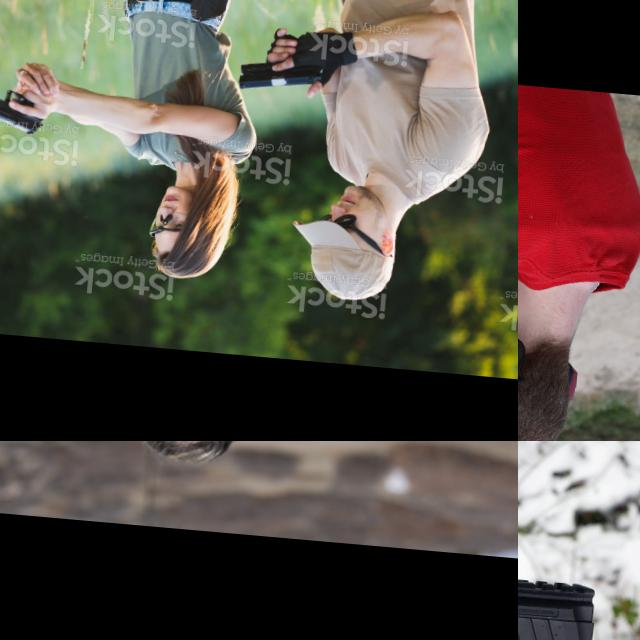handgun: (518, 441, 640, 640), (401, 441, 518, 480), (234, 52, 328, 98), (518, 301, 568, 361), (0, 84, 46, 134)
